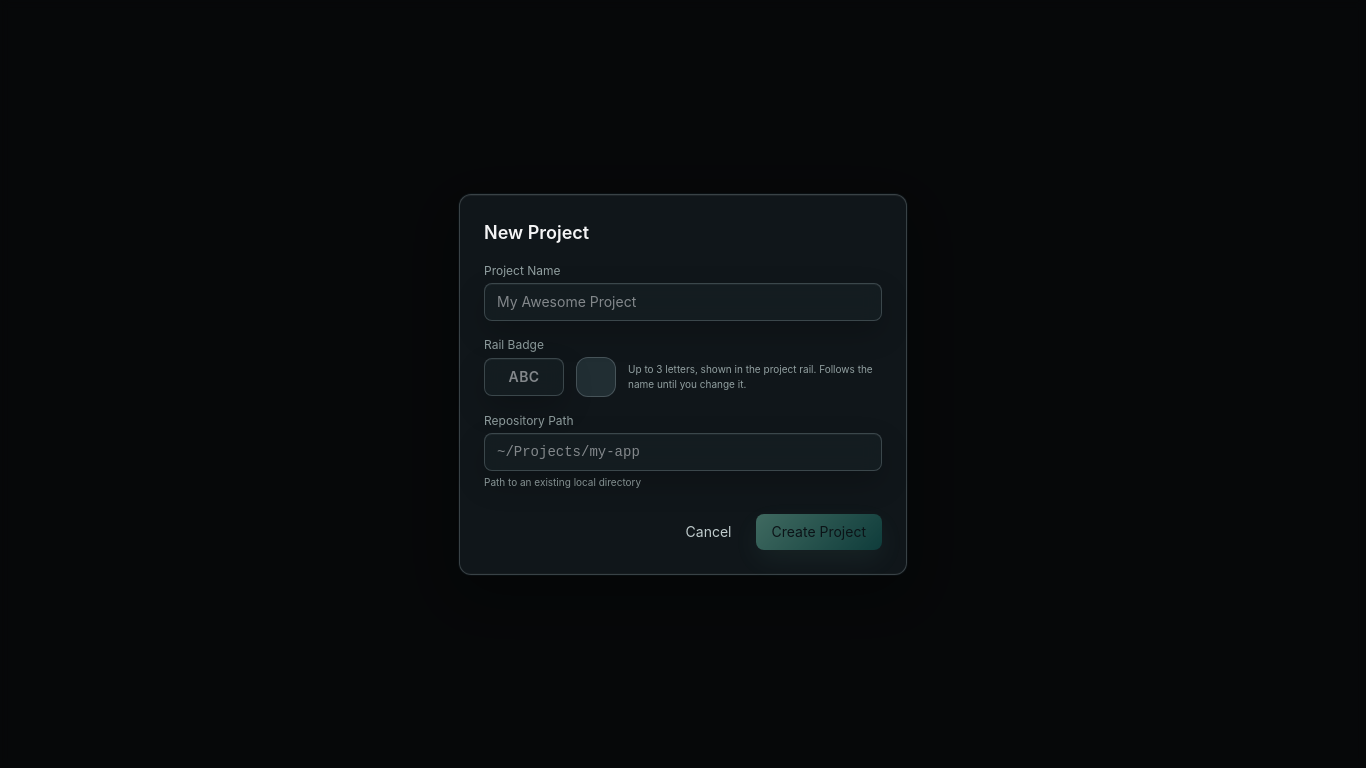
Test: ProjectModal › caps the badge at three characters and uppercases input
Type "abcdef" into the field labelled "Rail Badge". click: point(524, 376)
box: x1=484 y1=358 x2=564 y2=396
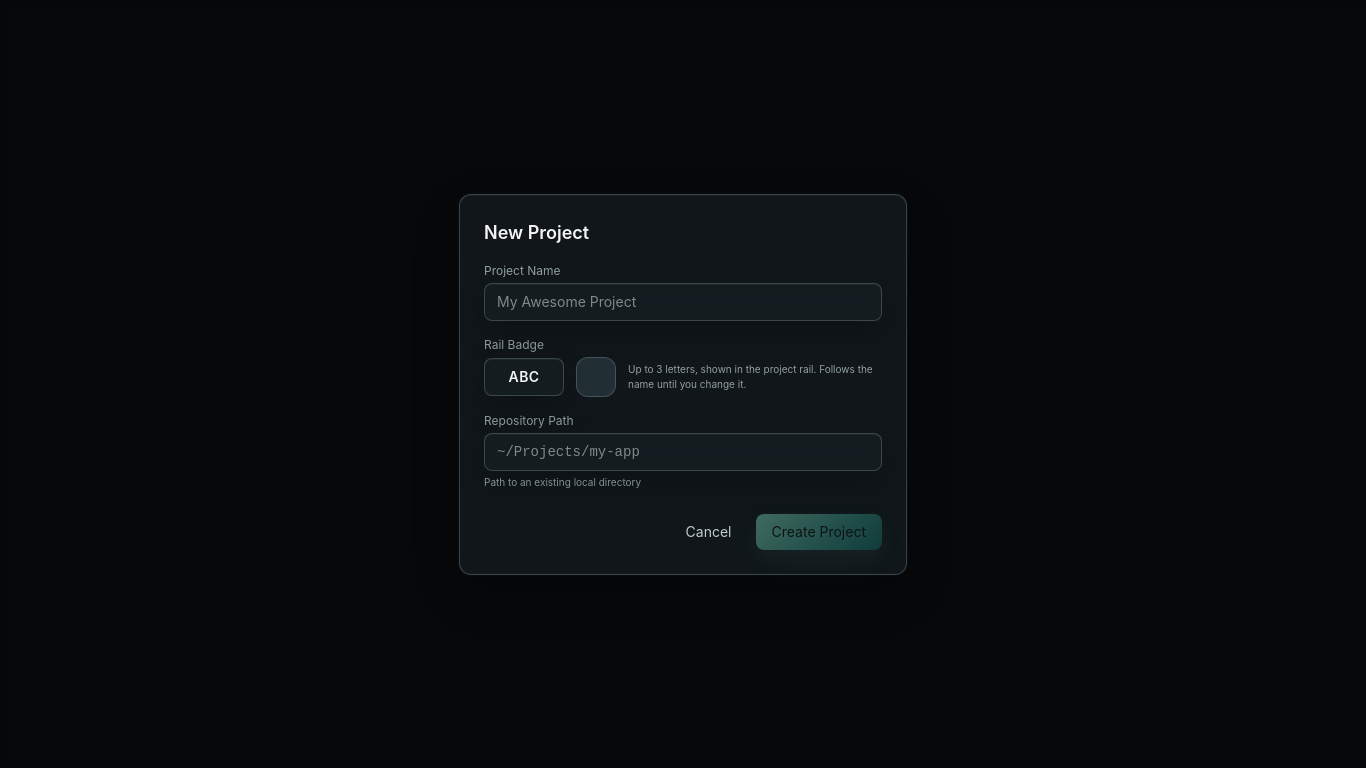
expect the field labelled "Rail Badge" holds "ABC": met, box x1=484 y1=358 x2=564 y2=396
